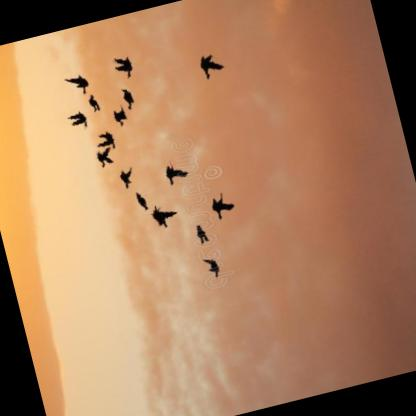bird: (179, 38, 239, 96), (47, 66, 104, 104), (106, 47, 148, 90), (144, 198, 190, 237), (203, 187, 245, 229), (154, 155, 198, 194), (109, 162, 146, 196), (89, 125, 122, 159), (58, 107, 93, 139), (196, 252, 229, 283), (87, 145, 118, 177), (114, 85, 143, 114), (84, 88, 109, 121), (106, 103, 134, 132), (129, 188, 156, 218), (189, 220, 213, 248)
